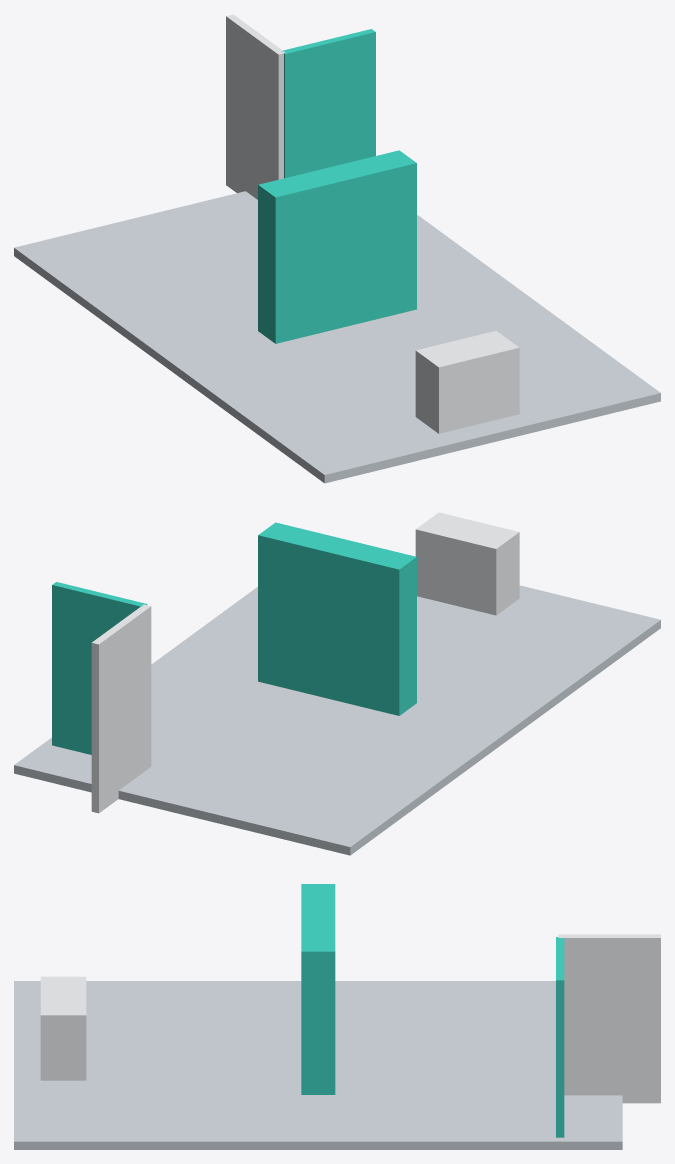
3 renders of one model, top to bottom at view 1: azimuth 30°, elevation 25°; view 2: azimuth 150°, elevation 25°; view 3: azimuth 270°, elevation 25°, orthographic. The views are drawn at different scales.
Visible parts, largest first — view 1: Exhibition Booth Concept; view 2: Exhibition Booth Concept; view 3: Exhibition Booth Concept.
Part boxes in pixels (<box>): Exhibition Booth Concept: <box>14,14,660,483</box>; Exhibition Booth Concept: <box>14,512,660,855</box>; Exhibition Booth Concept: <box>14,884,660,1149</box>.
Size of the model in its own units: 5 by 2.4 by 8.51.
